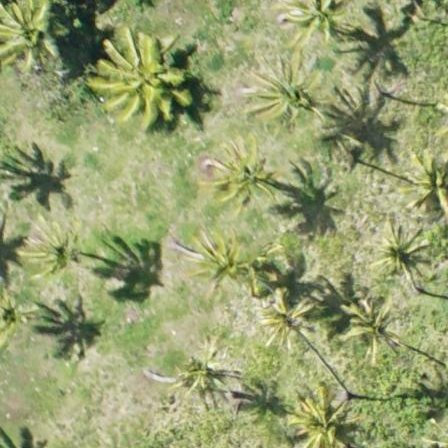palm_tree: (98, 27, 188, 123), (247, 53, 313, 123), (337, 291, 403, 361), (1, 1, 65, 71), (213, 140, 276, 207), (18, 221, 81, 284), (363, 217, 422, 280), (169, 347, 235, 401), (194, 234, 250, 294), (252, 287, 308, 347), (293, 392, 348, 448), (404, 148, 448, 215), (284, 1, 352, 41)
